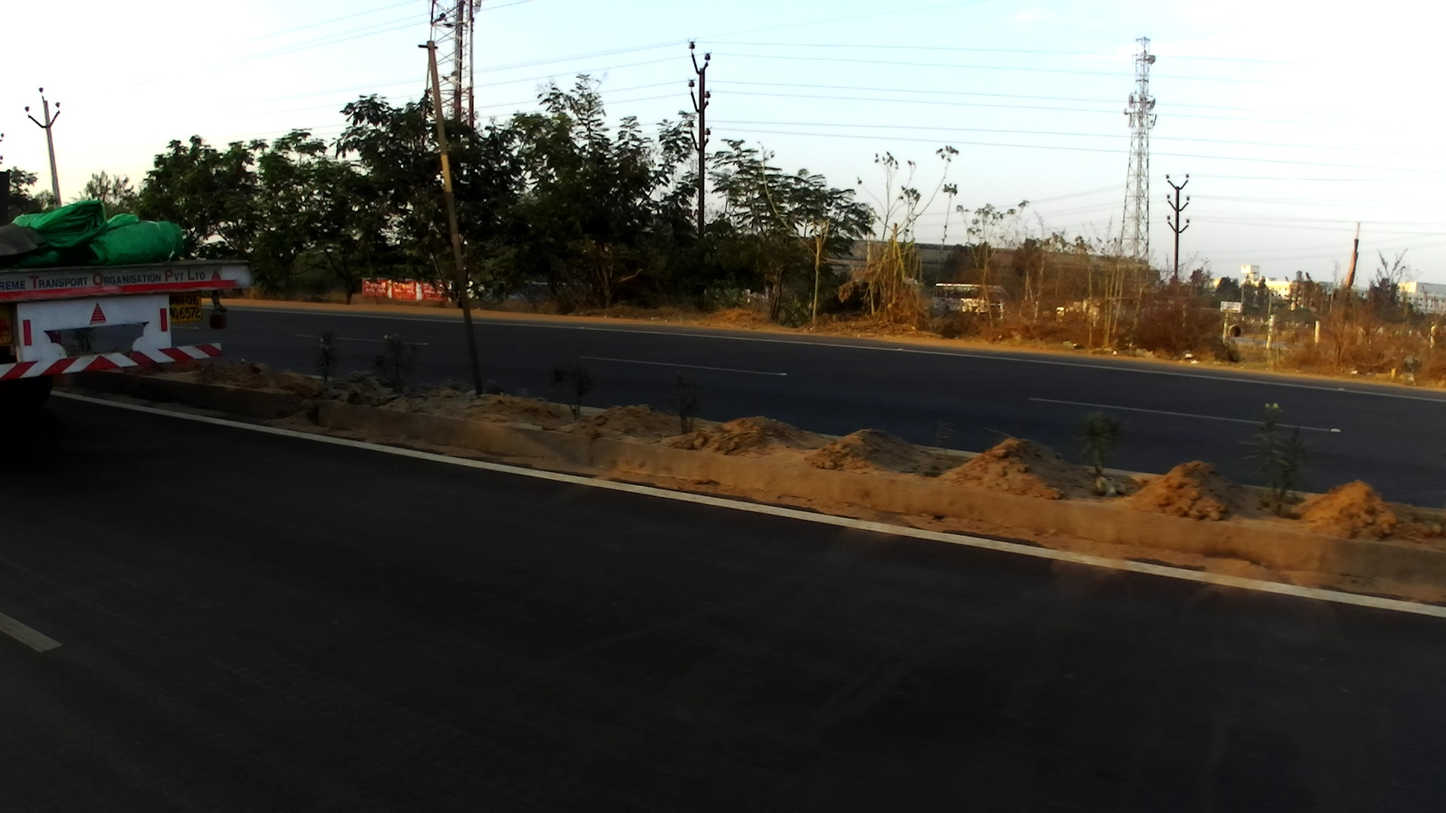vehicle fallback: (2, 175, 251, 408), (931, 282, 1009, 327)
